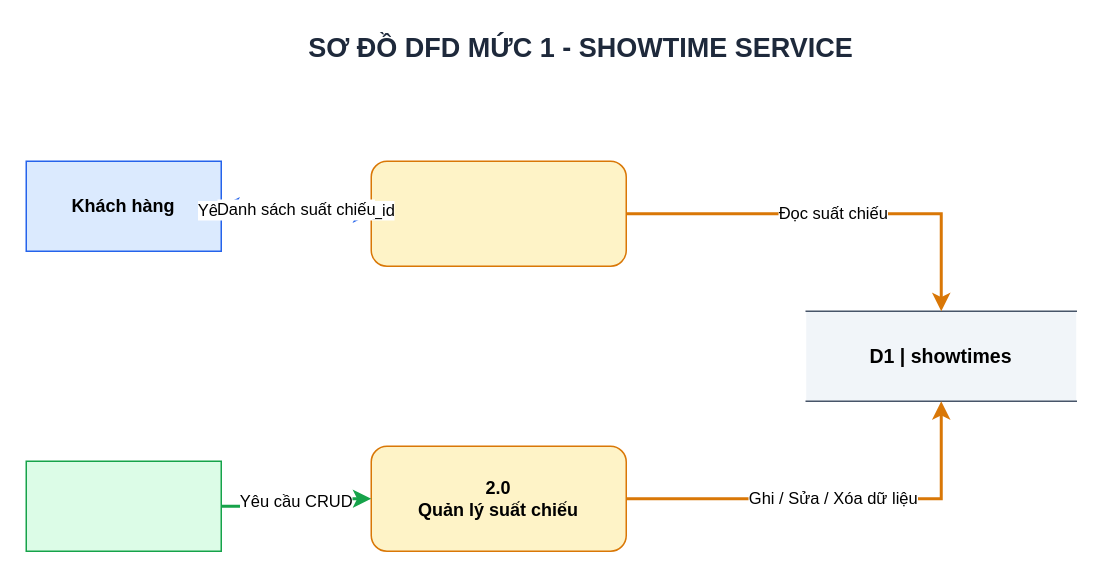
The diagram is 1103 pixels wide and 578 high, and some of its shapes have lost their labels. Here are the shapes that lost their labels. From the top down, the centre of each, then its label:
At point (498, 213): "1.0 Tra cứu suất chiếu".
At point (123, 505): "Quản trị viên".
